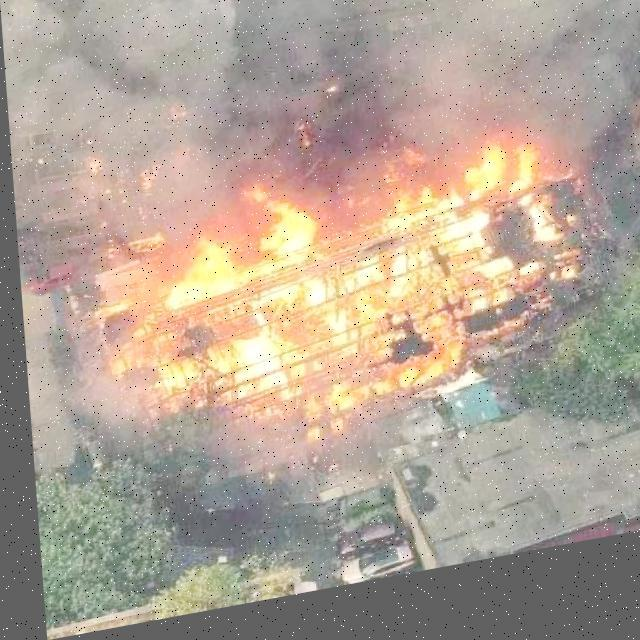Fire: (88, 143, 590, 469)
